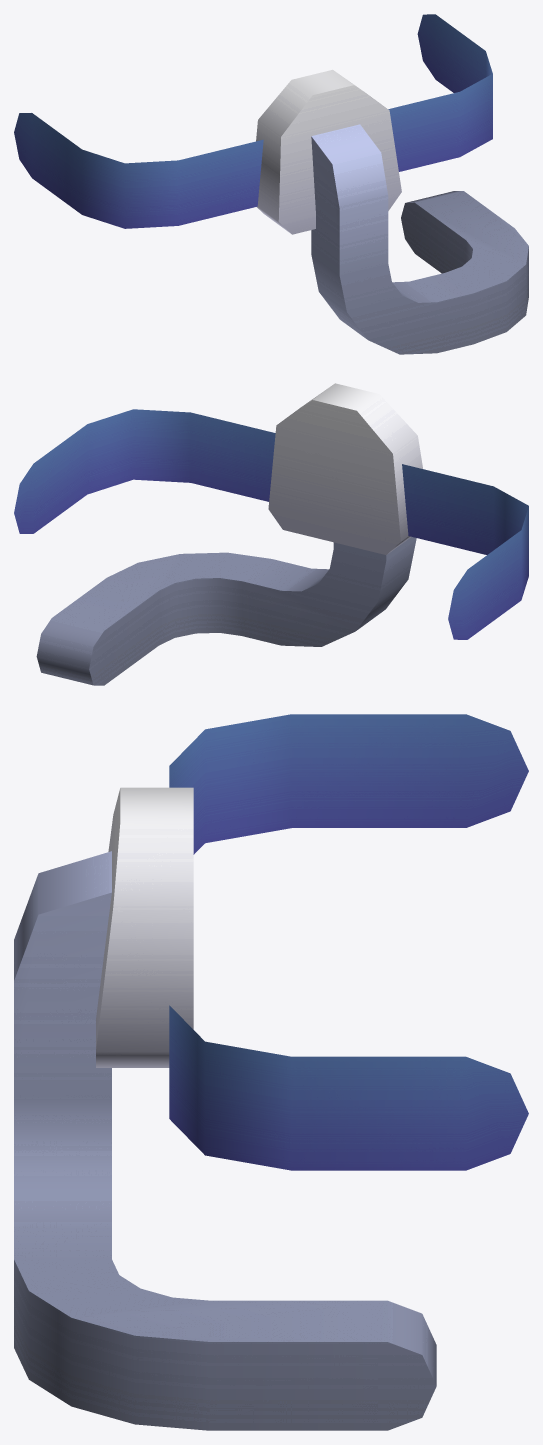
3 views of the same model, one above another, from view 1: azimuth 30°, elevation 25°; view 2: azimuth 150°, elevation 25°; view 3: azimuth 270°, elevation 25° (orthographic). The views are drawn at different scales.
Parts seen in each view (by area): view 1: aid-mask; view 2: aid-mask; view 3: aid-mask.
Part boxes in pixels (x1,y1,x2,y2): aid-mask: (14, 14, 528, 354); aid-mask: (14, 383, 528, 685); aid-mask: (14, 714, 528, 1430).
Size of the model in its own units: 0.3355 by 0.2026 by 0.2103.
1 material, 1 textured.
